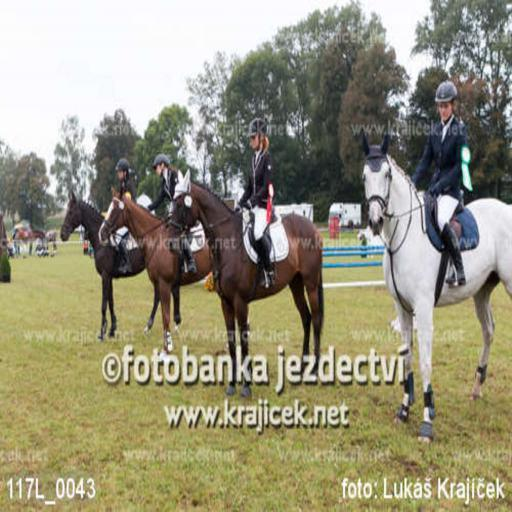horse: (360, 126, 511, 444), (164, 166, 324, 400), (96, 180, 218, 356), (60, 191, 150, 343)
